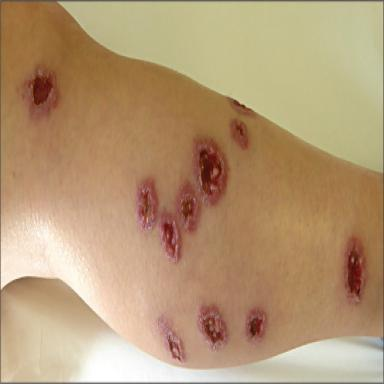Leishmanios: (193, 139, 227, 204), (23, 67, 57, 113), (197, 304, 227, 352), (345, 237, 365, 302), (157, 316, 184, 362), (178, 182, 200, 232), (137, 180, 157, 229), (160, 215, 180, 262), (246, 308, 266, 341), (230, 120, 248, 150), (228, 98, 253, 115)
